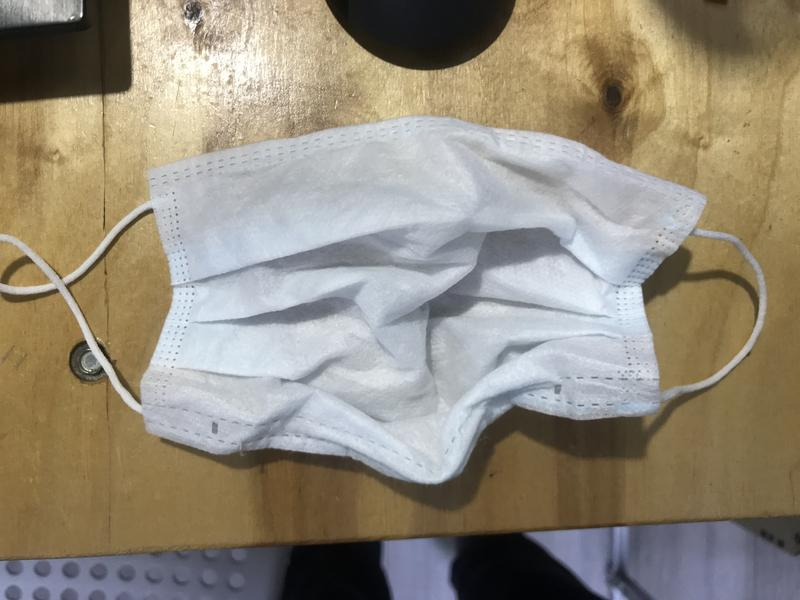medical_mask: (2, 115, 766, 484)
